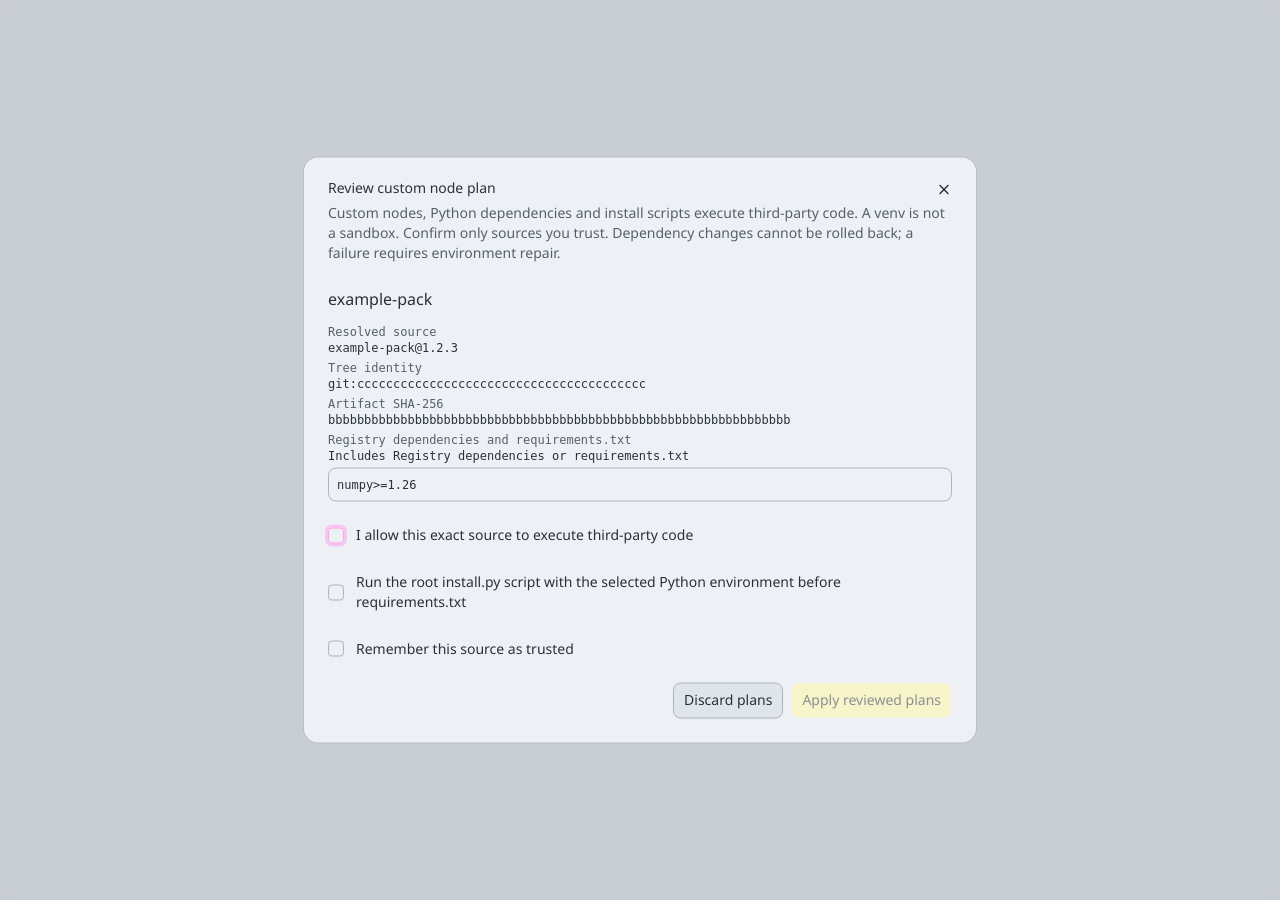
it: offers trust only when the source has a namespace
The image size is (1280, 900).
What coordinates should you click on to do the following:
click the 2nd checkbox named "install.py script"
I would click on:
 (336, 592)
Its box is [328,584,344,600].
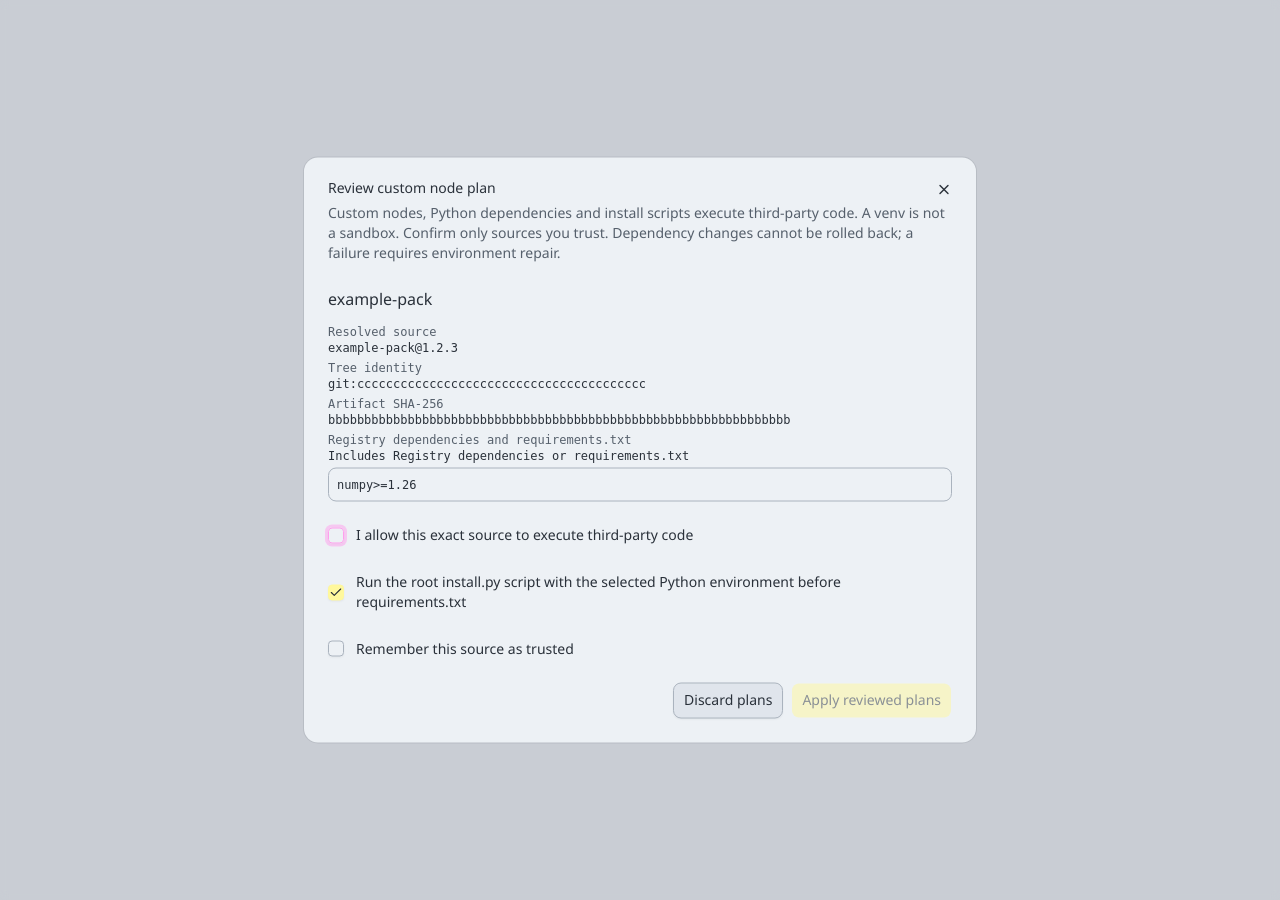
What coordinates should you click on to do the following:
click the checkbox named "Remember this source as trusted" next to "Remember this source as trusted"
I would click on:
 (336, 649)
Its box is [328,641,344,657].
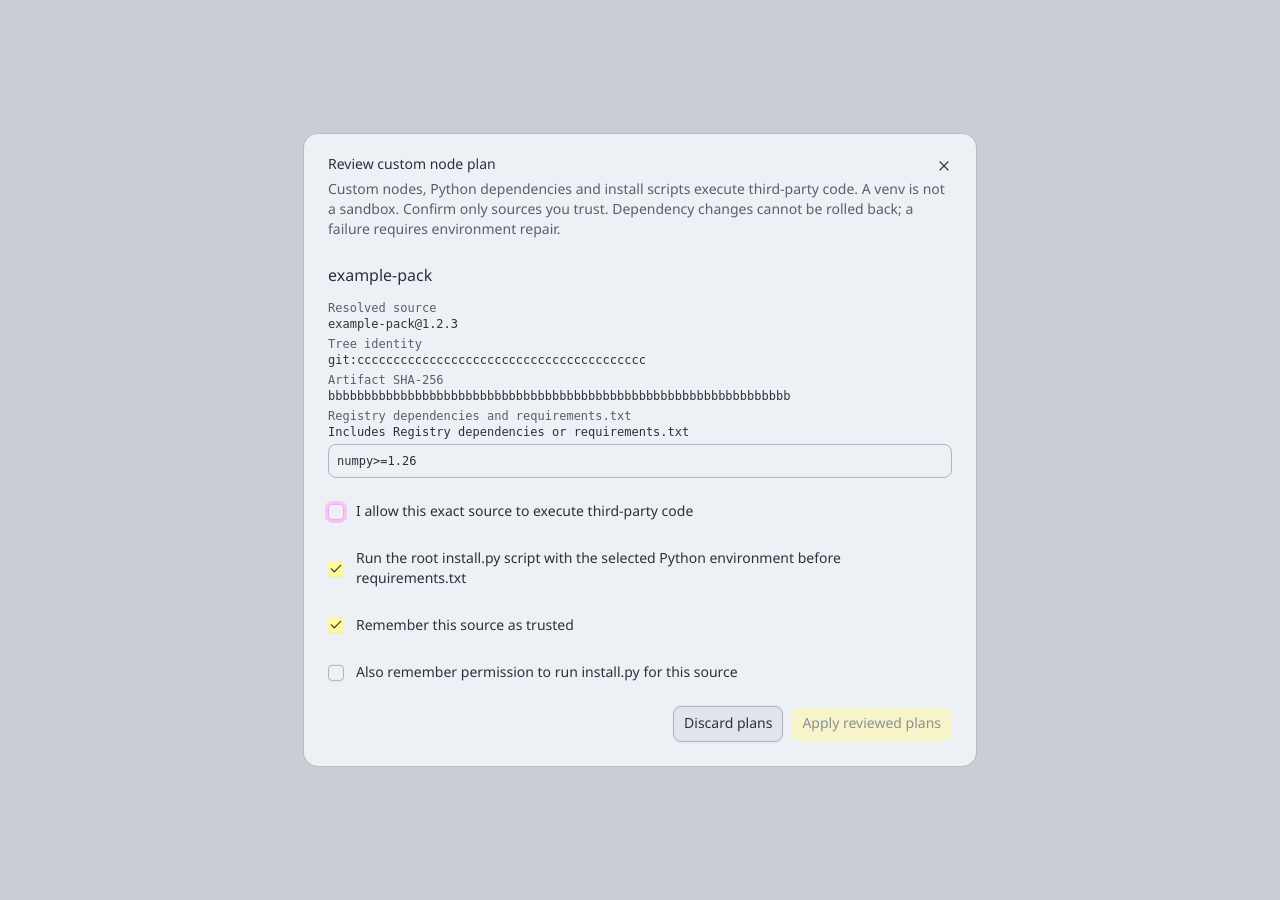
expect the 4th checkbox named "remember permission to run install.py" is shown: met, box [328,664,344,680]
What coordinates should you click on to do the following:
click the 2nd checkbox named "install.py script"
I would click on:
 (336, 568)
Its box is [328,560,344,576].
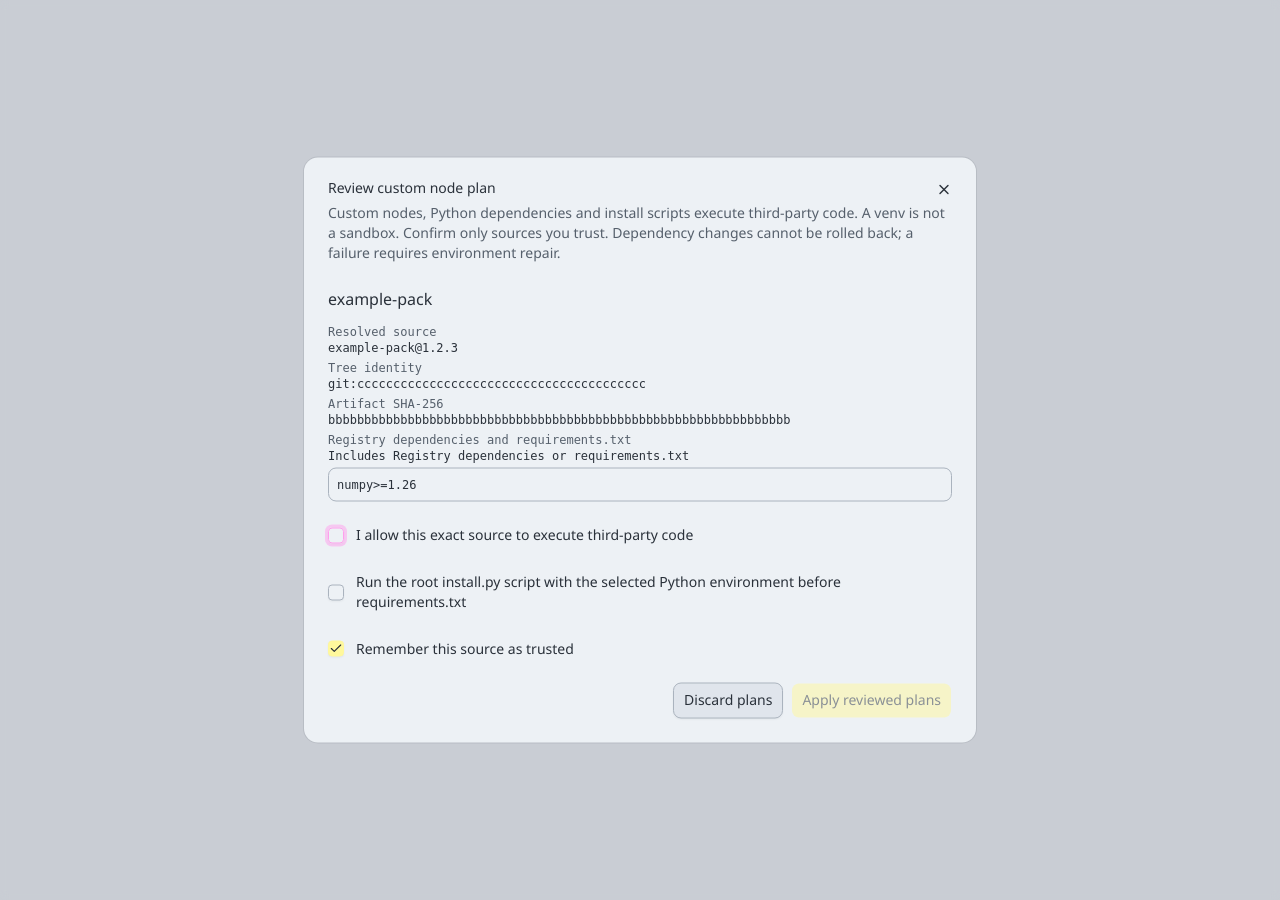
expect the label "remember permission to run install.py" is gone: met
